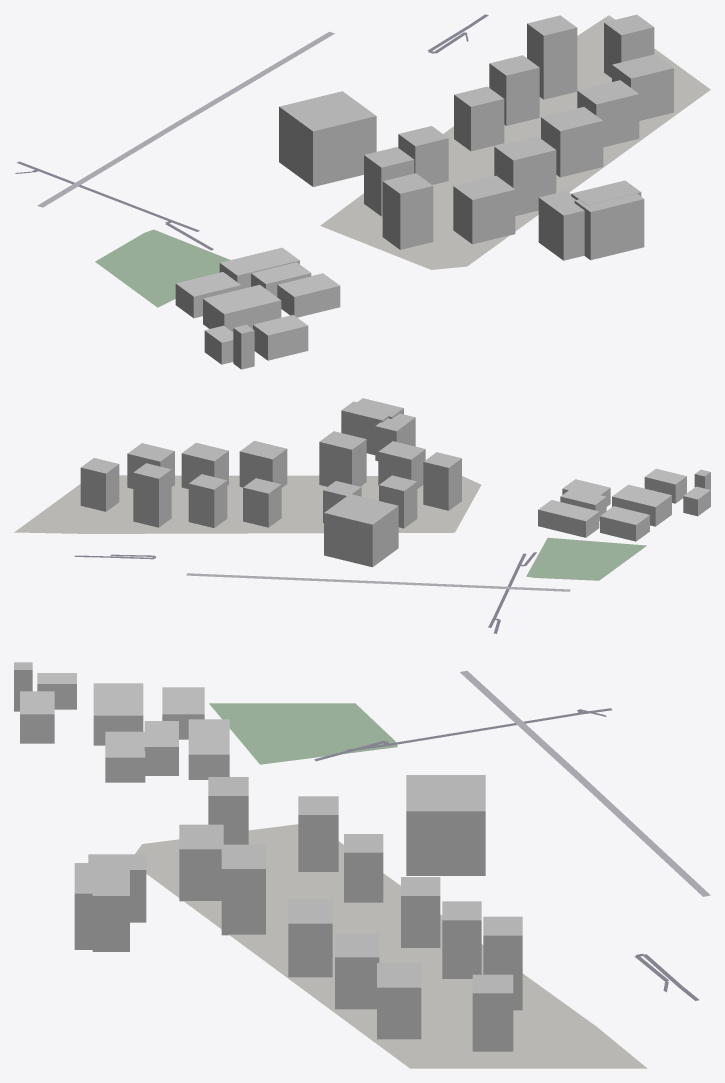
File: 137_95_mid.glb
3 views of the same model, one above another, from view 1: azimuth 30°, elevation 25°; view 2: azimuth 150°, elevation 25°; view 3: azimuth 270°, elevation 25° (orthographic). The views are drawn at different scales.
Bounding box in the file's own units: 508 × 48.55 × 405.
